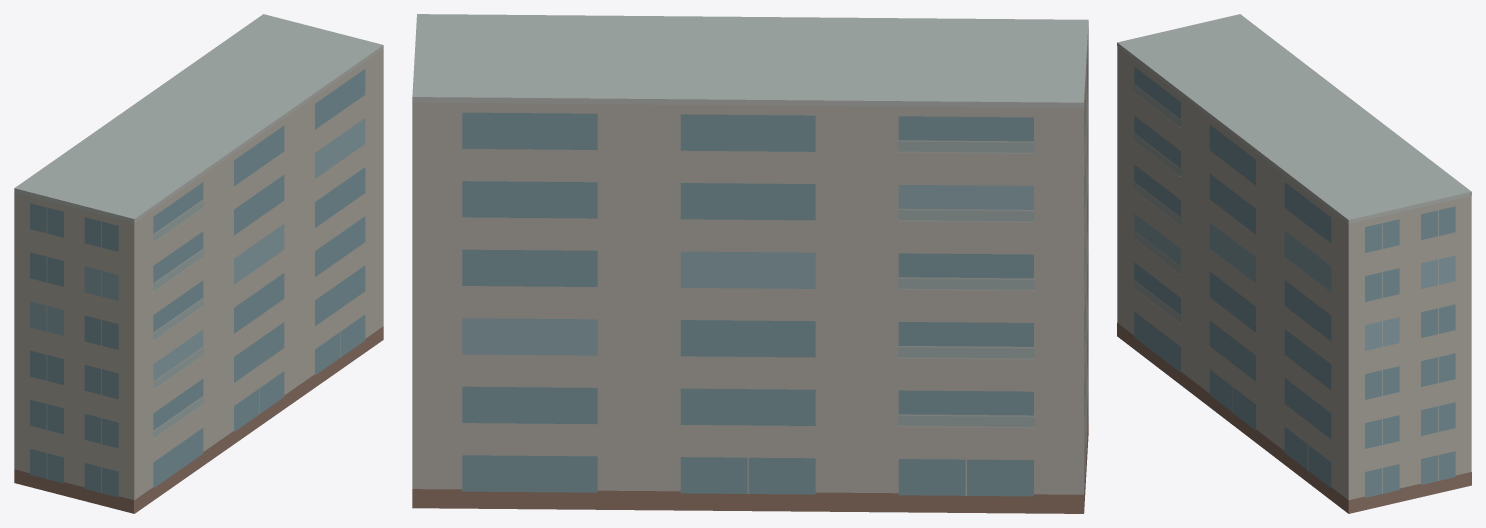
Rendered from survey-upis-32978284.glb.
The picture shows the model from 3 angles, left to right: view 1: azimuth 30°, elevation 25°; view 2: azimuth 150°, elevation 25°; view 3: azimuth 270°, elevation 25°; orthographic projection. The views are drawn at different scales.
Parts seen in each view (by area): view 1: survey-upis-32978284.tmp; view 2: survey-upis-32978284.tmp; view 3: survey-upis-32978284.tmp.
Boxes of the visible parts, x1,y1,x2,y2 form: survey-upis-32978284.tmp: (14,14,383,513); survey-upis-32978284.tmp: (412,14,1088,513); survey-upis-32978284.tmp: (1117,14,1471,513).
Size of the model in its own units: 27.54 by 18.3 by 20.03.
